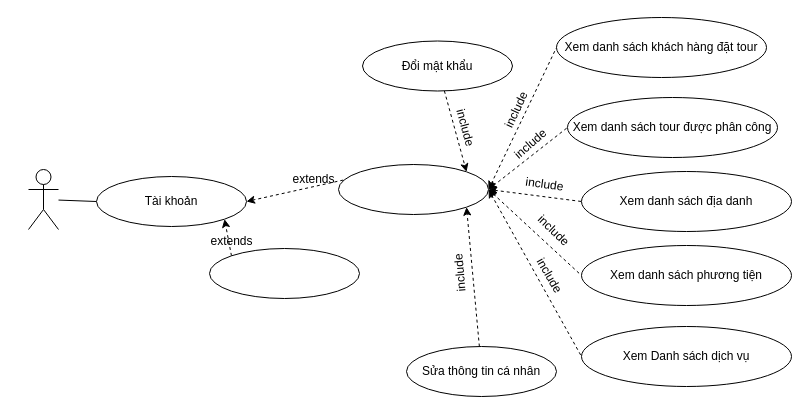
Some shapes in this 809 by 414 pixel diagram are drawn without their labels. Here are the shapes that lost their labels. From the top down, the box of each, then its label:
(28, 168, 58, 230): Employee
(338, 164, 488, 214): Đăng nhập
(208, 248, 360, 298): Đăng ký
